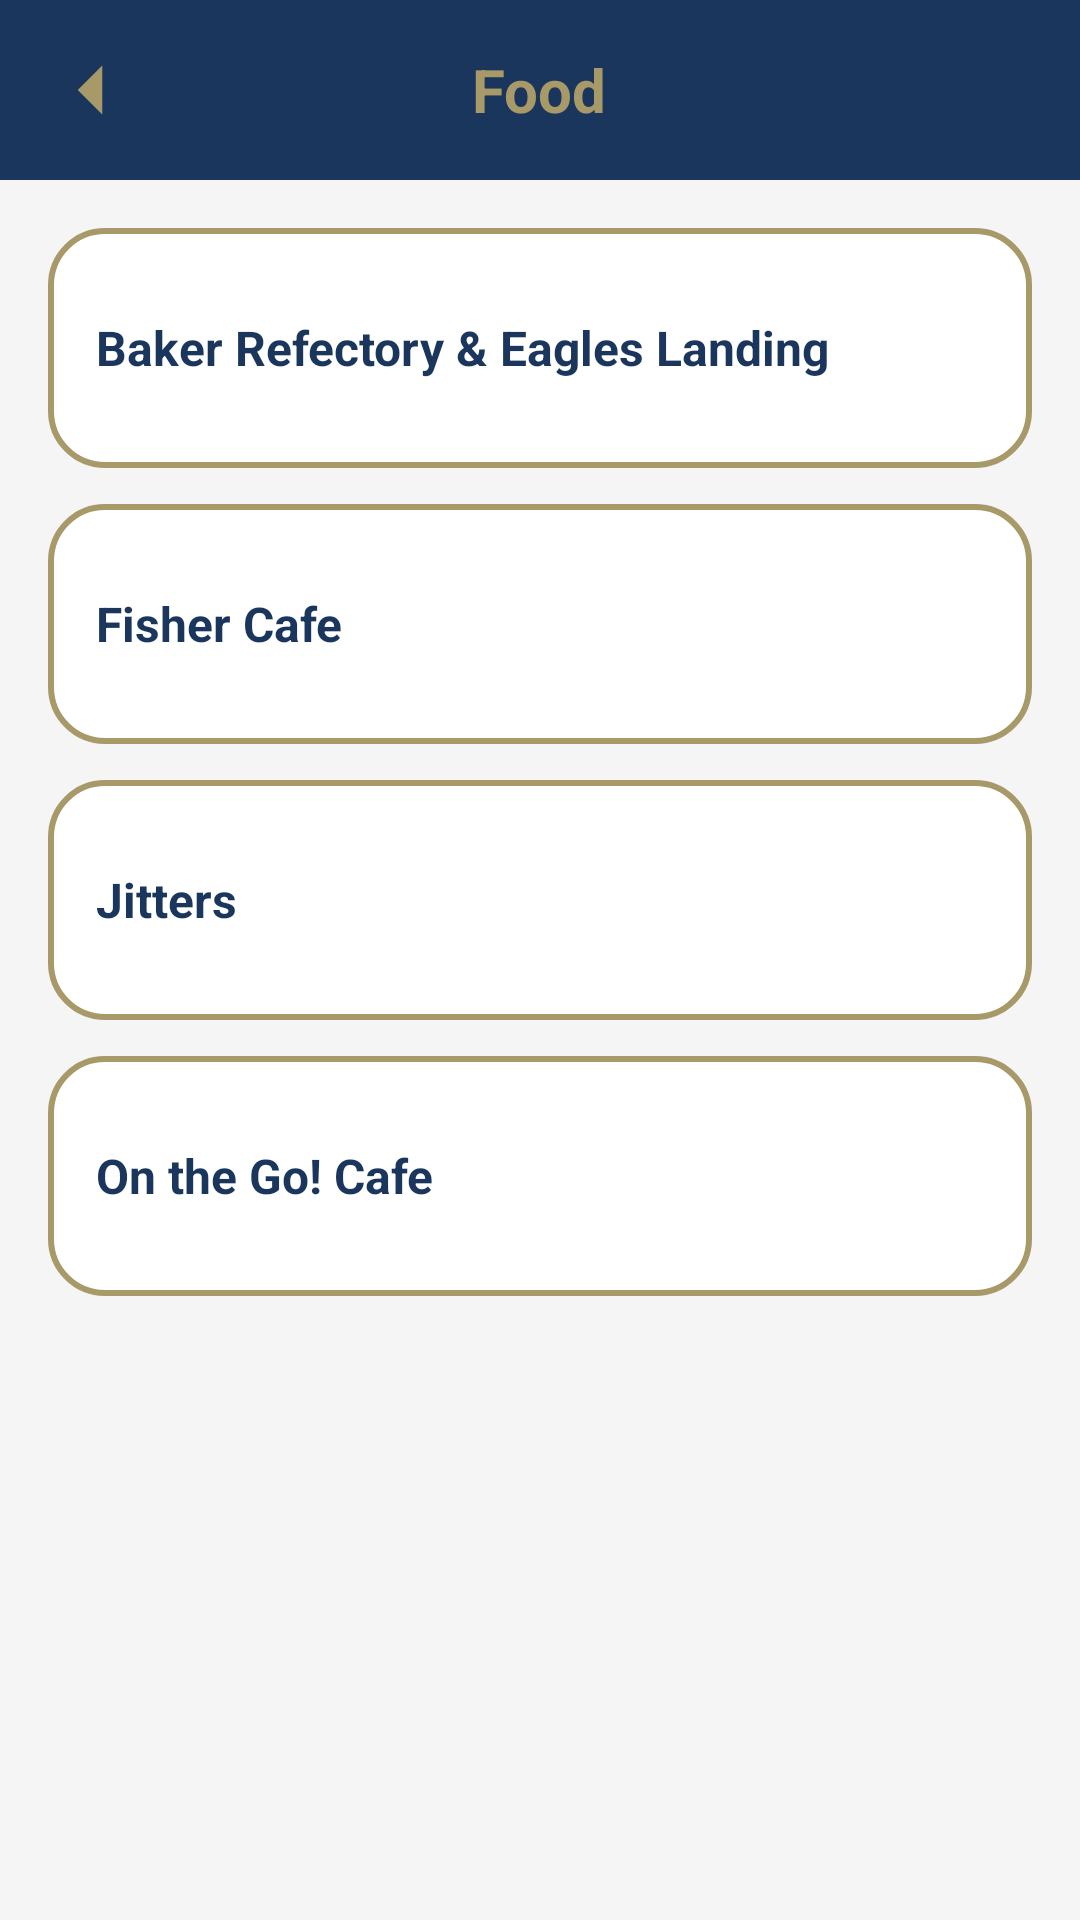

Screen size 1080x1920. Icon name, then its box in pixels as Rect(x1, y1, x2, y2):
back: Rect(78, 66, 103, 114)
